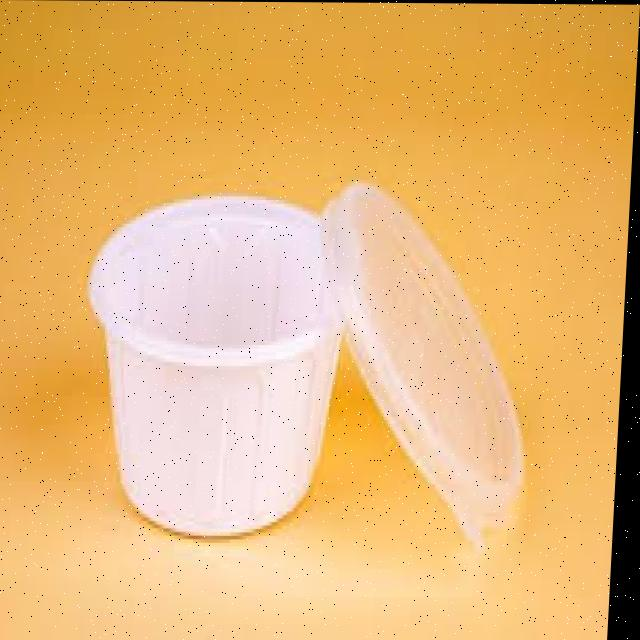disposable: (85, 177, 373, 536)
